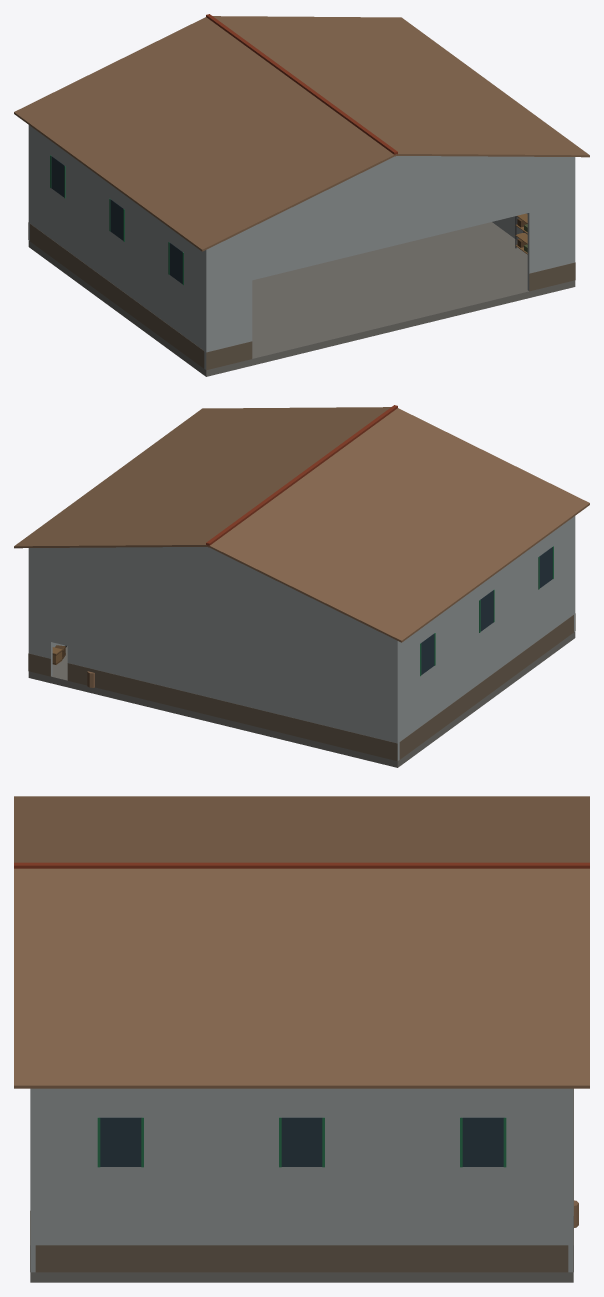
The model's file is hangar_a.glb.
3 views of the same model, one above another, from view 1: azimuth 30°, elevation 25°; view 2: azimuth 150°, elevation 25°; view 3: azimuth 270°, elevation 25° (orthographic). The views are drawn at different scales.
Parts seen in each view (by area): view 1: hangar_a; view 2: hangar_a; view 3: hangar_a.
Boxes of the visible parts, <box> form: hangar_a: <box>14,14,589,376</box>; hangar_a: <box>14,405,589,767</box>; hangar_a: <box>14,796,589,1282</box>.
Bounding box in the file's own units: 25.2 × 11.4 × 21.2.
